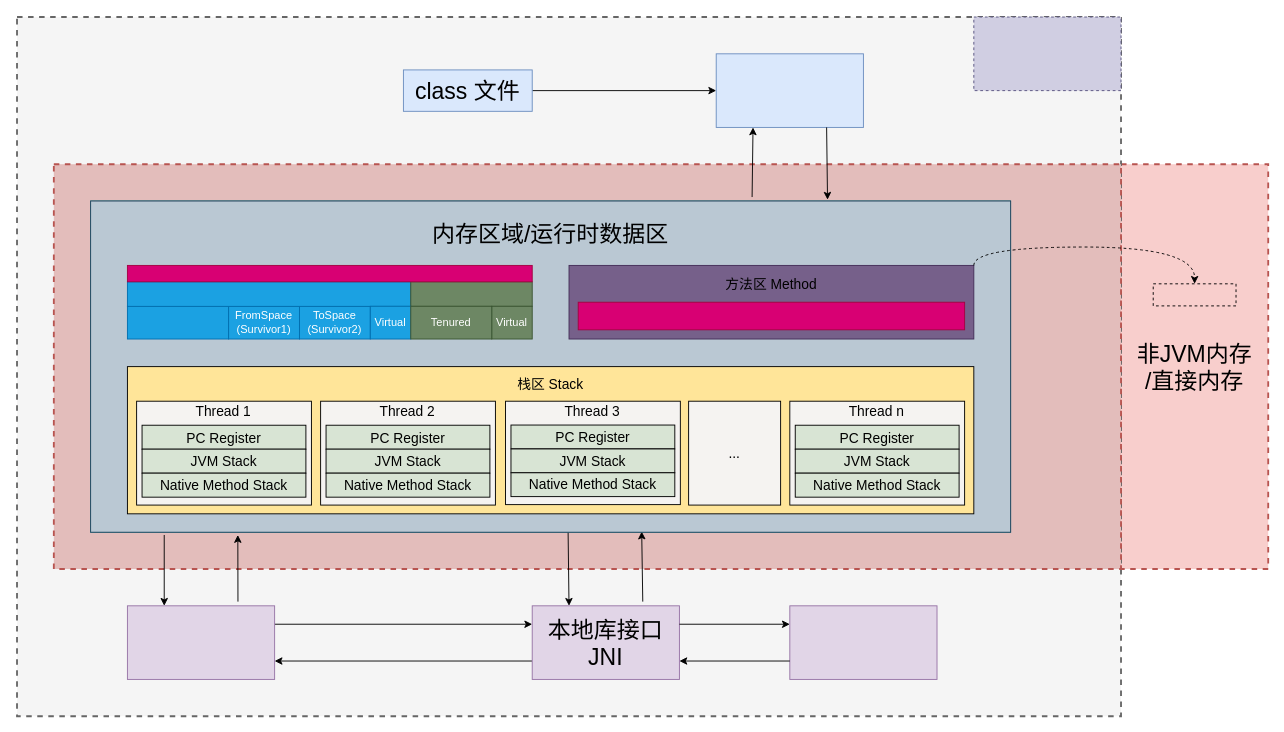
Image size: 1284x732. Some labels were removed from this diagram. The box of each missing label's shape, as (x1, y1, x2, y2) in pixels:
1.8元空间实现: (1152, 283, 1236, 306)
Eden: (126, 305, 229, 339)
JVM: (973, 16, 1121, 91)
Old Generation: (410, 281, 532, 306)
Young Generation: (126, 281, 411, 306)
堆区 Heap: (126, 264, 532, 282)
执行引擎: (126, 605, 275, 679)
本地方法库: (789, 605, 937, 679)
类加载器: (715, 53, 863, 127)
运行时常量池: (577, 301, 965, 330)
